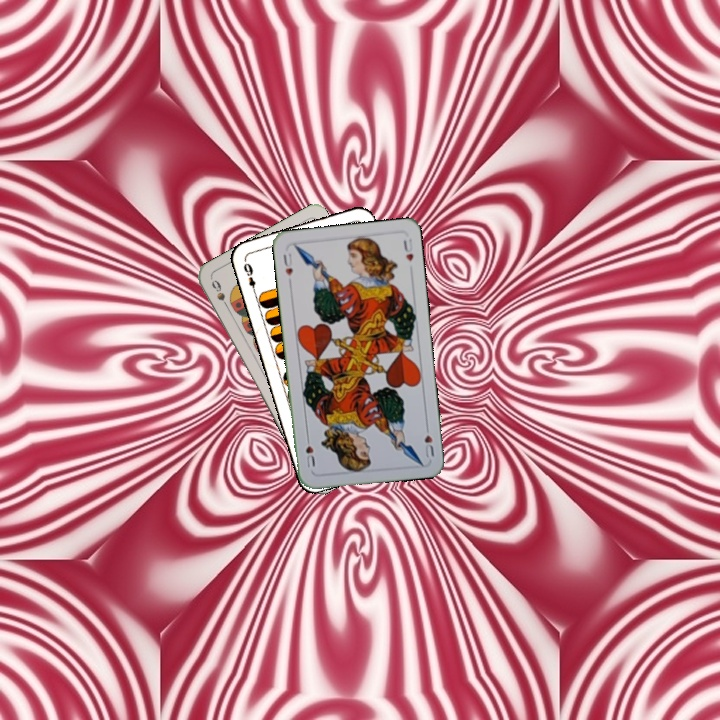E9: (239, 259, 259, 297)
HU: (420, 420, 436, 460), (279, 249, 295, 286)
S9: (207, 276, 233, 313)
